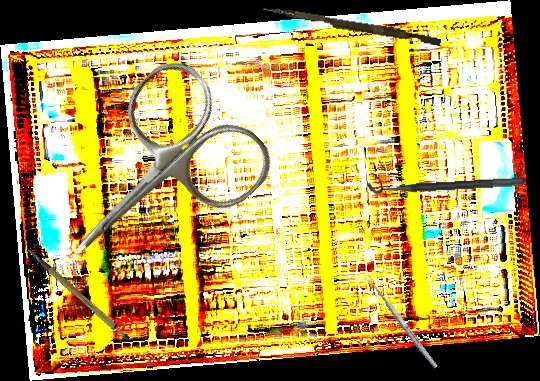Fixation Ring: (366, 163, 524, 196)
Iris Scissors: (20, 49, 283, 310)
Pusher: (262, 5, 442, 47)
Scalpel Handle: (27, 234, 132, 353)
Surgical Spoon: (364, 273, 439, 370)
